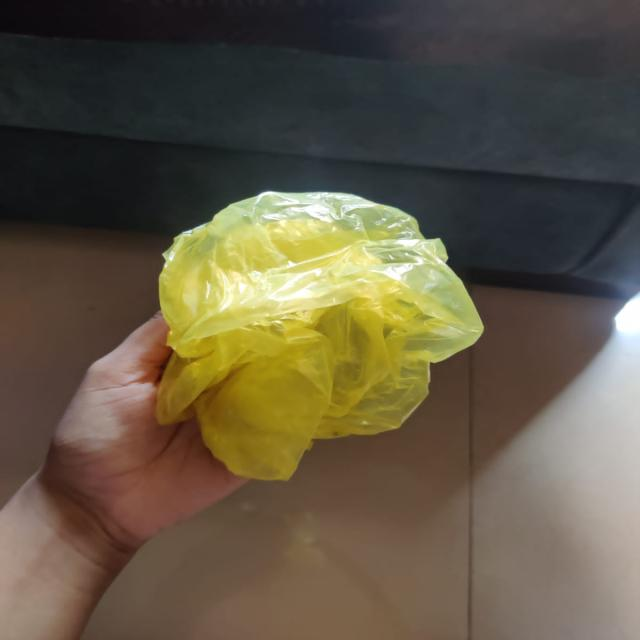Dry: (157, 193, 504, 492)
